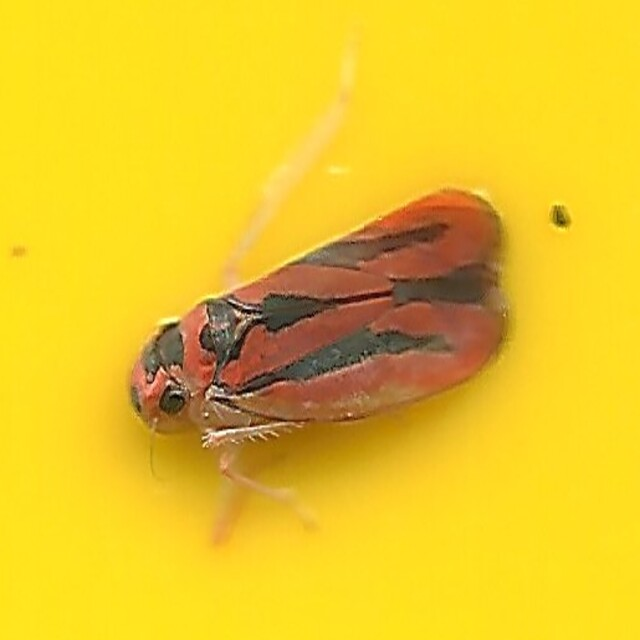Hemiptera: (124, 182, 516, 458)
